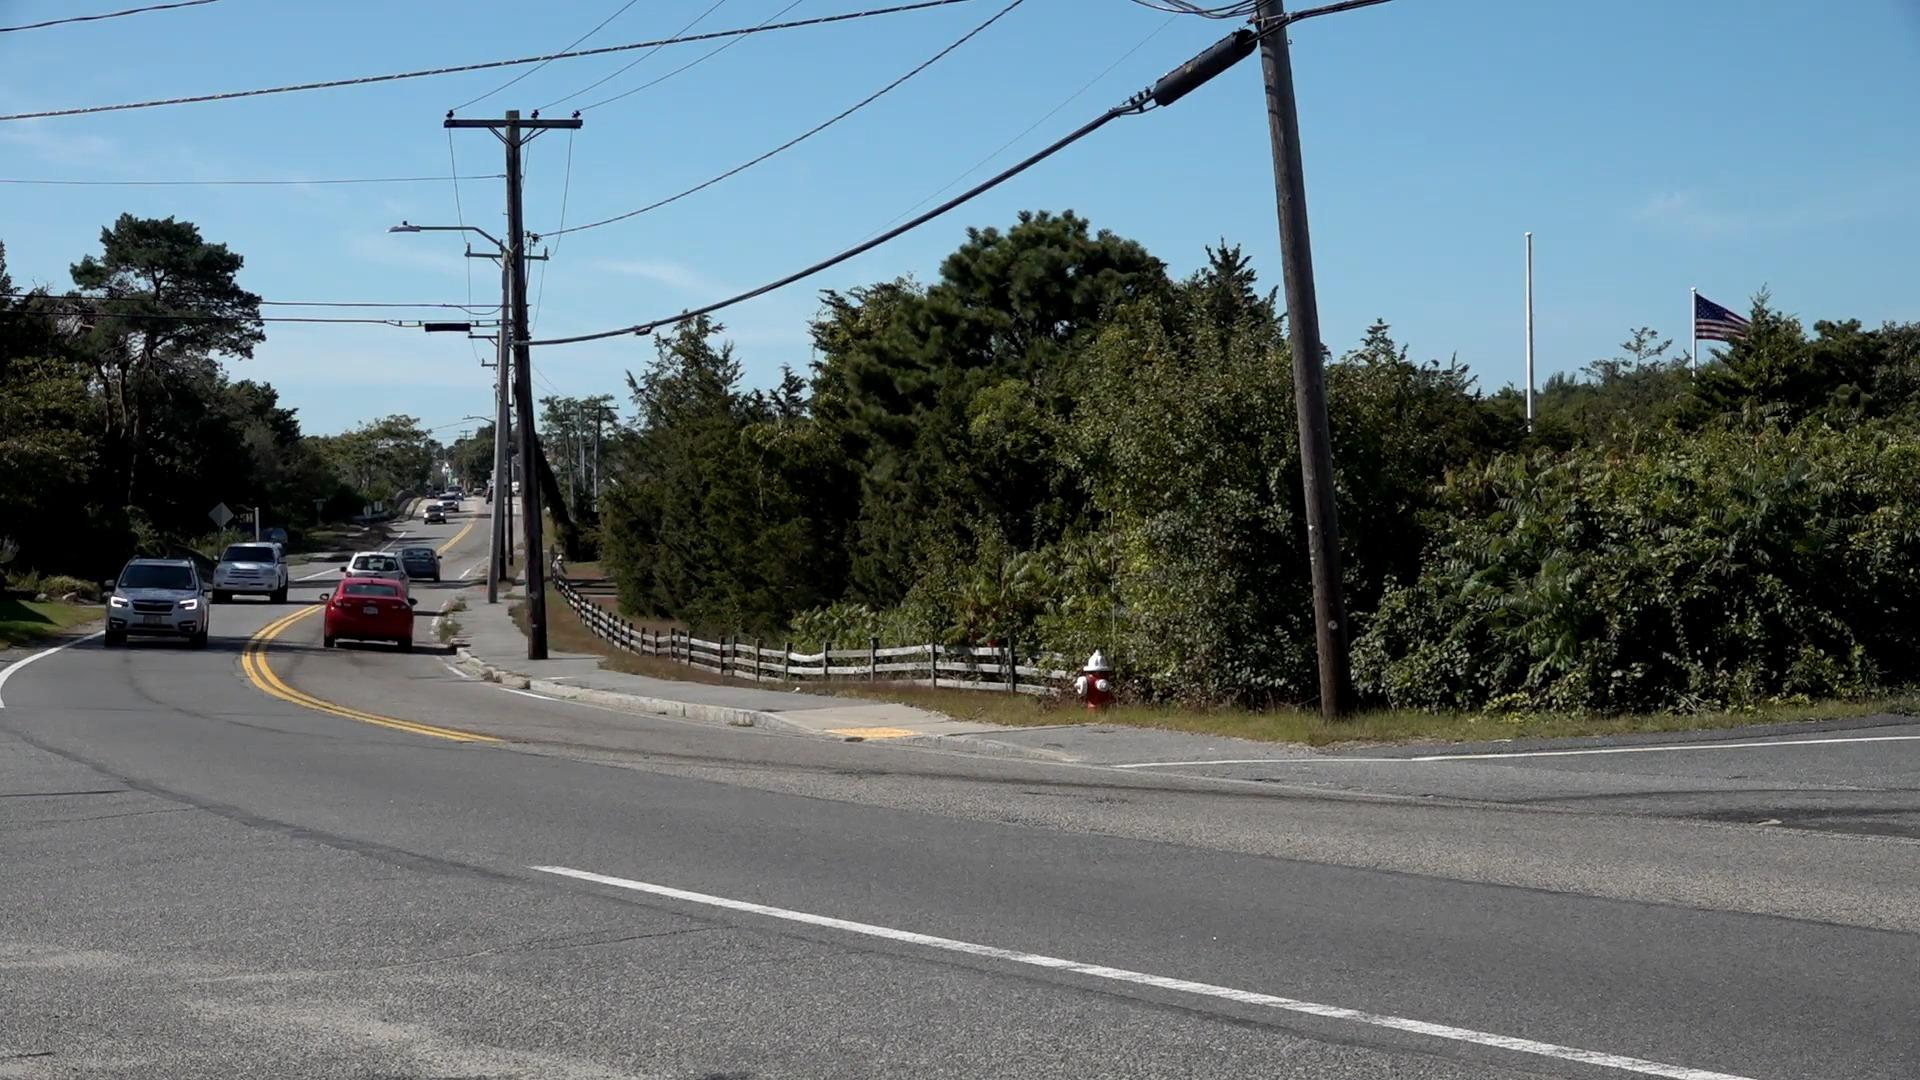sedans: (321, 579, 413, 649)
suv: (111, 556, 210, 647), (214, 541, 289, 599)
